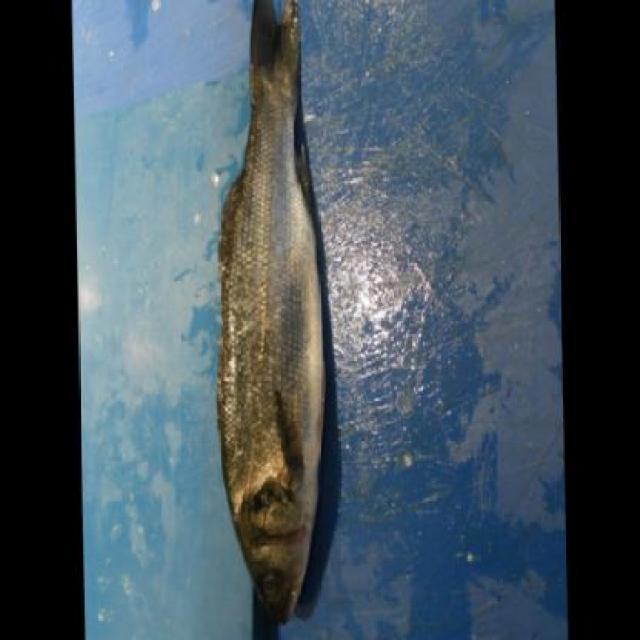Healthy Fish: (211, 4, 349, 640)
